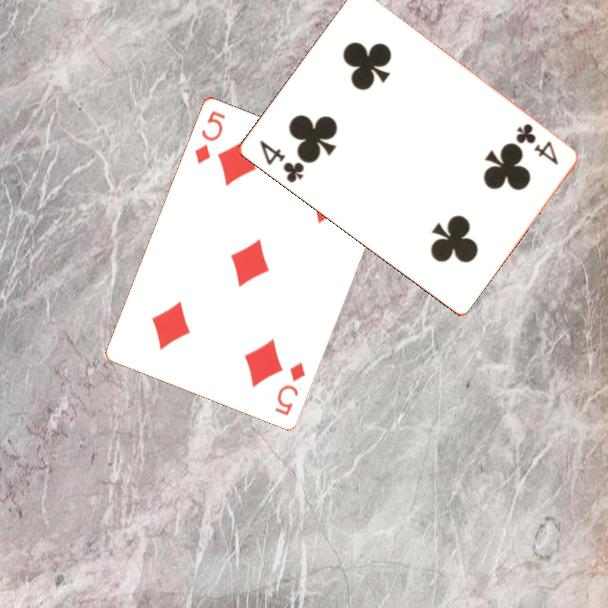c04: (255, 136, 307, 186), (512, 120, 561, 168)
d05: (270, 358, 308, 418), (191, 107, 228, 166)
